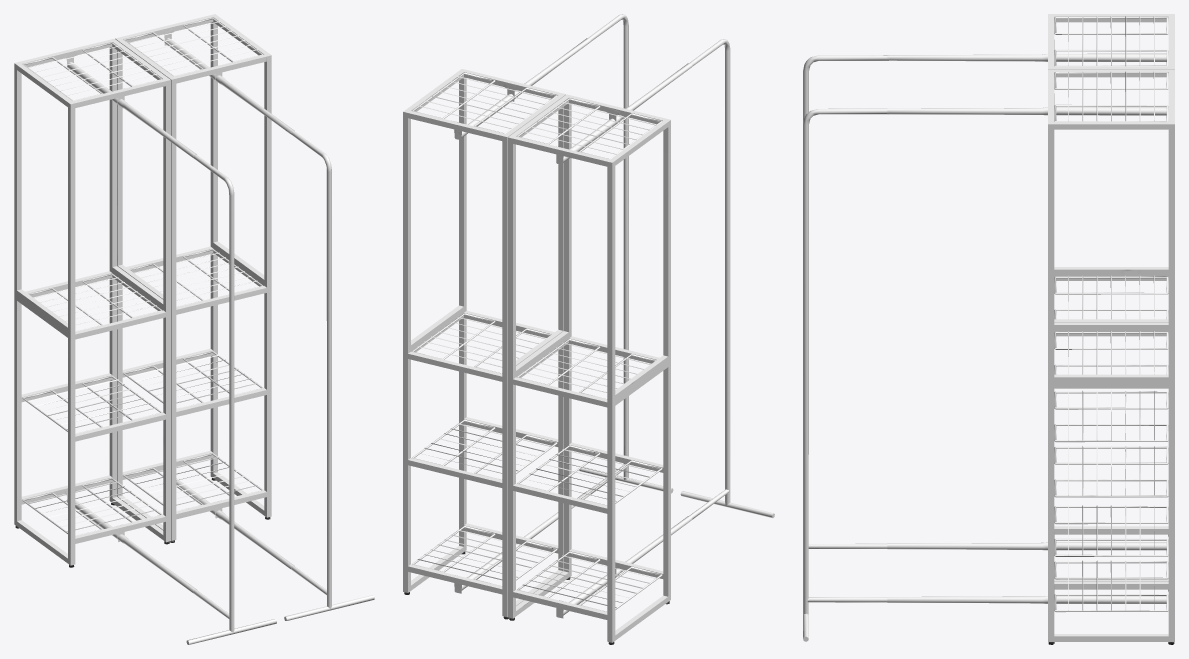
The model's file is jostein_rega_z_suszarka_99437267.glb.
3 renders of one model, left to right at view 1: azimuth 30°, elevation 25°; view 2: azimuth 150°, elevation 25°; view 3: azimuth 270°, elevation 25°, orthographic. The views are drawn at different scales.
Visible parts, largest first — view 1: jostein_rega_z_suszarka_99437267; view 2: jostein_rega_z_suszarka_99437267; view 3: jostein_rega_z_suszarka_99437267.
Boxes of the visible parts, bbox=[...] form: jostein_rega_z_suszarka_99437267: bbox=[14, 14, 374, 644]; jostein_rega_z_suszarka_99437267: bbox=[403, 14, 774, 644]; jostein_rega_z_suszarka_99437267: bbox=[803, 14, 1174, 644].
Size of the model in its own units: 0.8211 by 1.81 by 1.17.
Materials: 1 (1 with a texture image).
